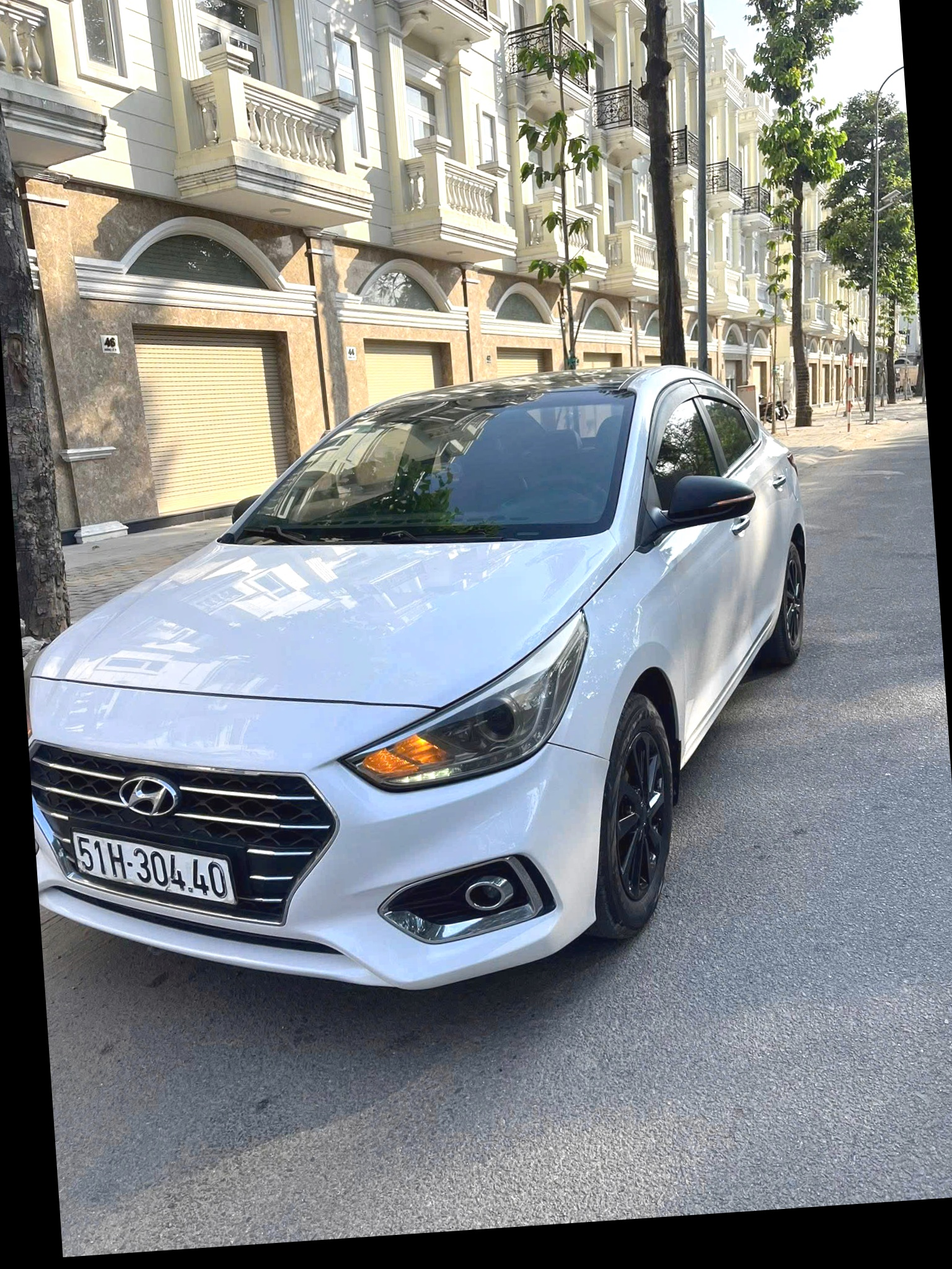Bien-so: (72, 821, 235, 913)
